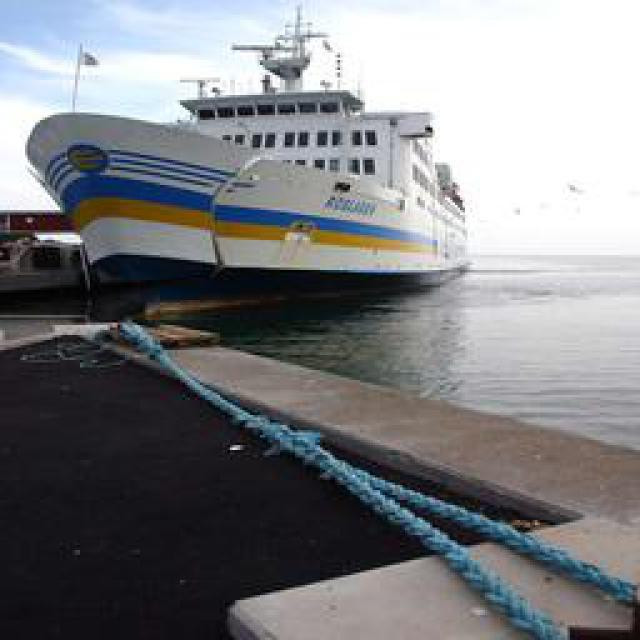Ship: (26, 45, 476, 295)
